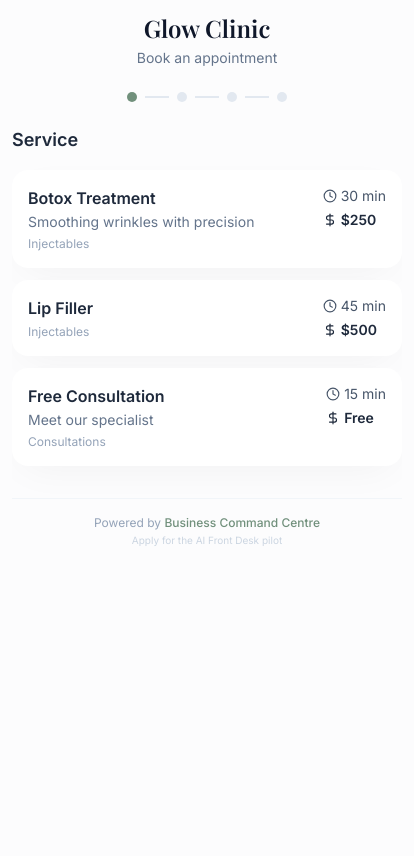
Test: BookingPortalPage › Step 2: Date & Time Selection › loads and displays time slots after selecting a date
This screenshot has width=414, height=856.
Click the text "Botox Treatment" at (92, 198), box [28, 188, 156, 208]
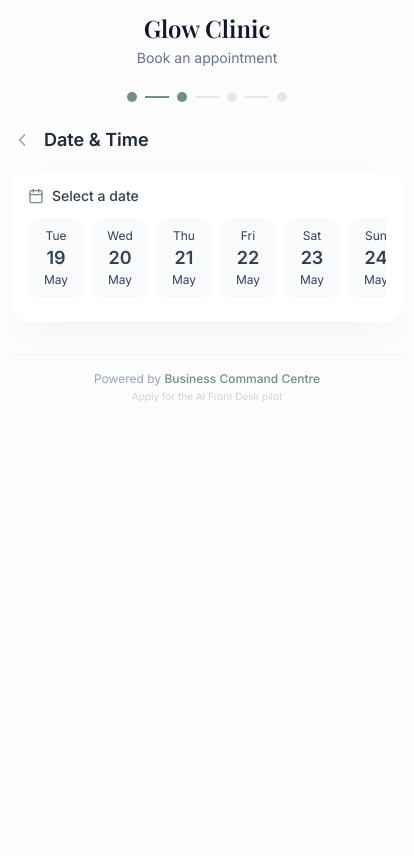
Expected: the heading "Date & Time" is shown, [44, 126, 149, 154]
Click the radio button labelled "Tue 19 May" at (56, 258), box [28, 218, 84, 298]
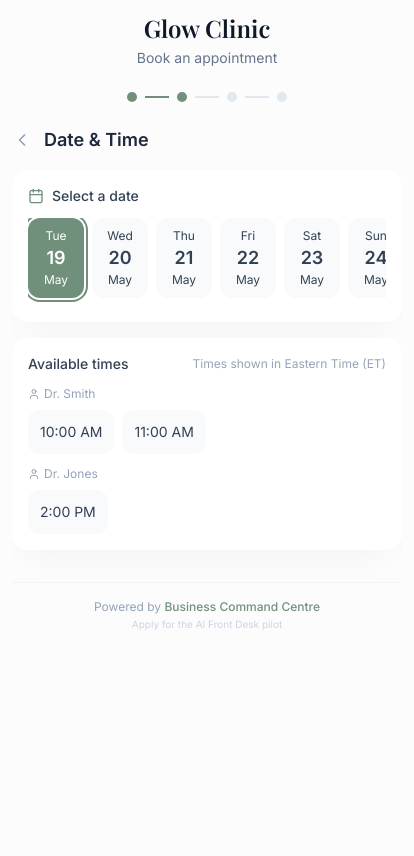
Expected: the text "Available times" is shown, [28, 354, 128, 374]
Expected: the text "Times shown in Eastern Time (ET)" is shown, [192, 356, 386, 372]
Expected: the radio button "10:00 AM" is shown, [28, 410, 114, 454]
